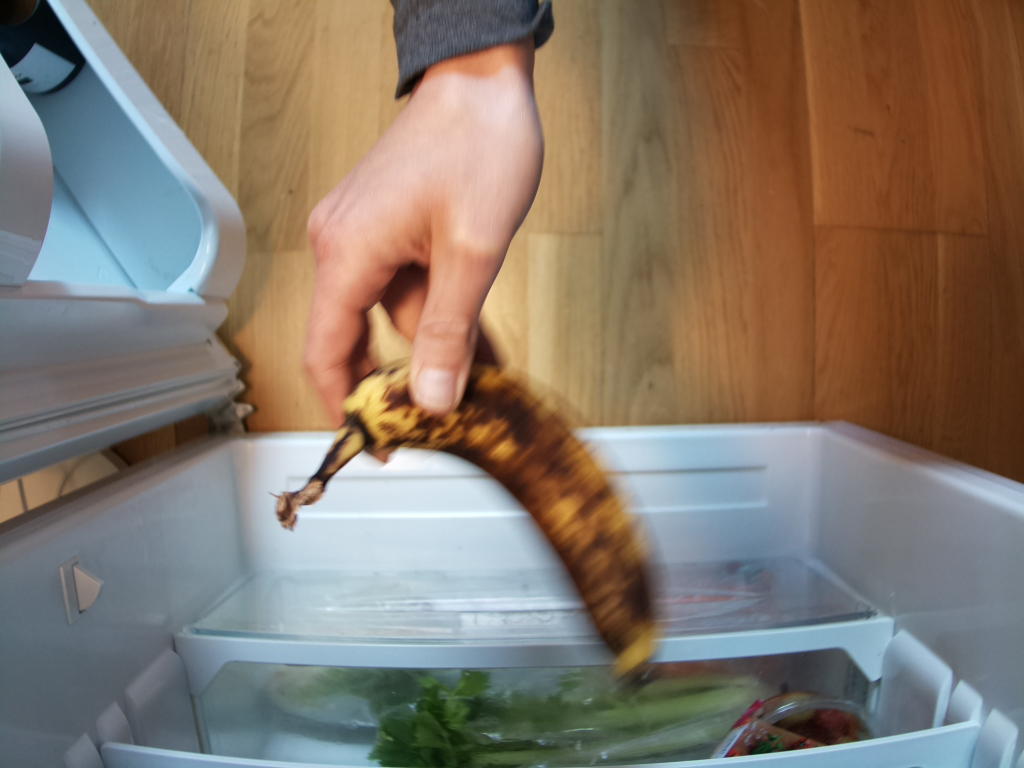banana-overripe: (273, 359, 656, 687)
